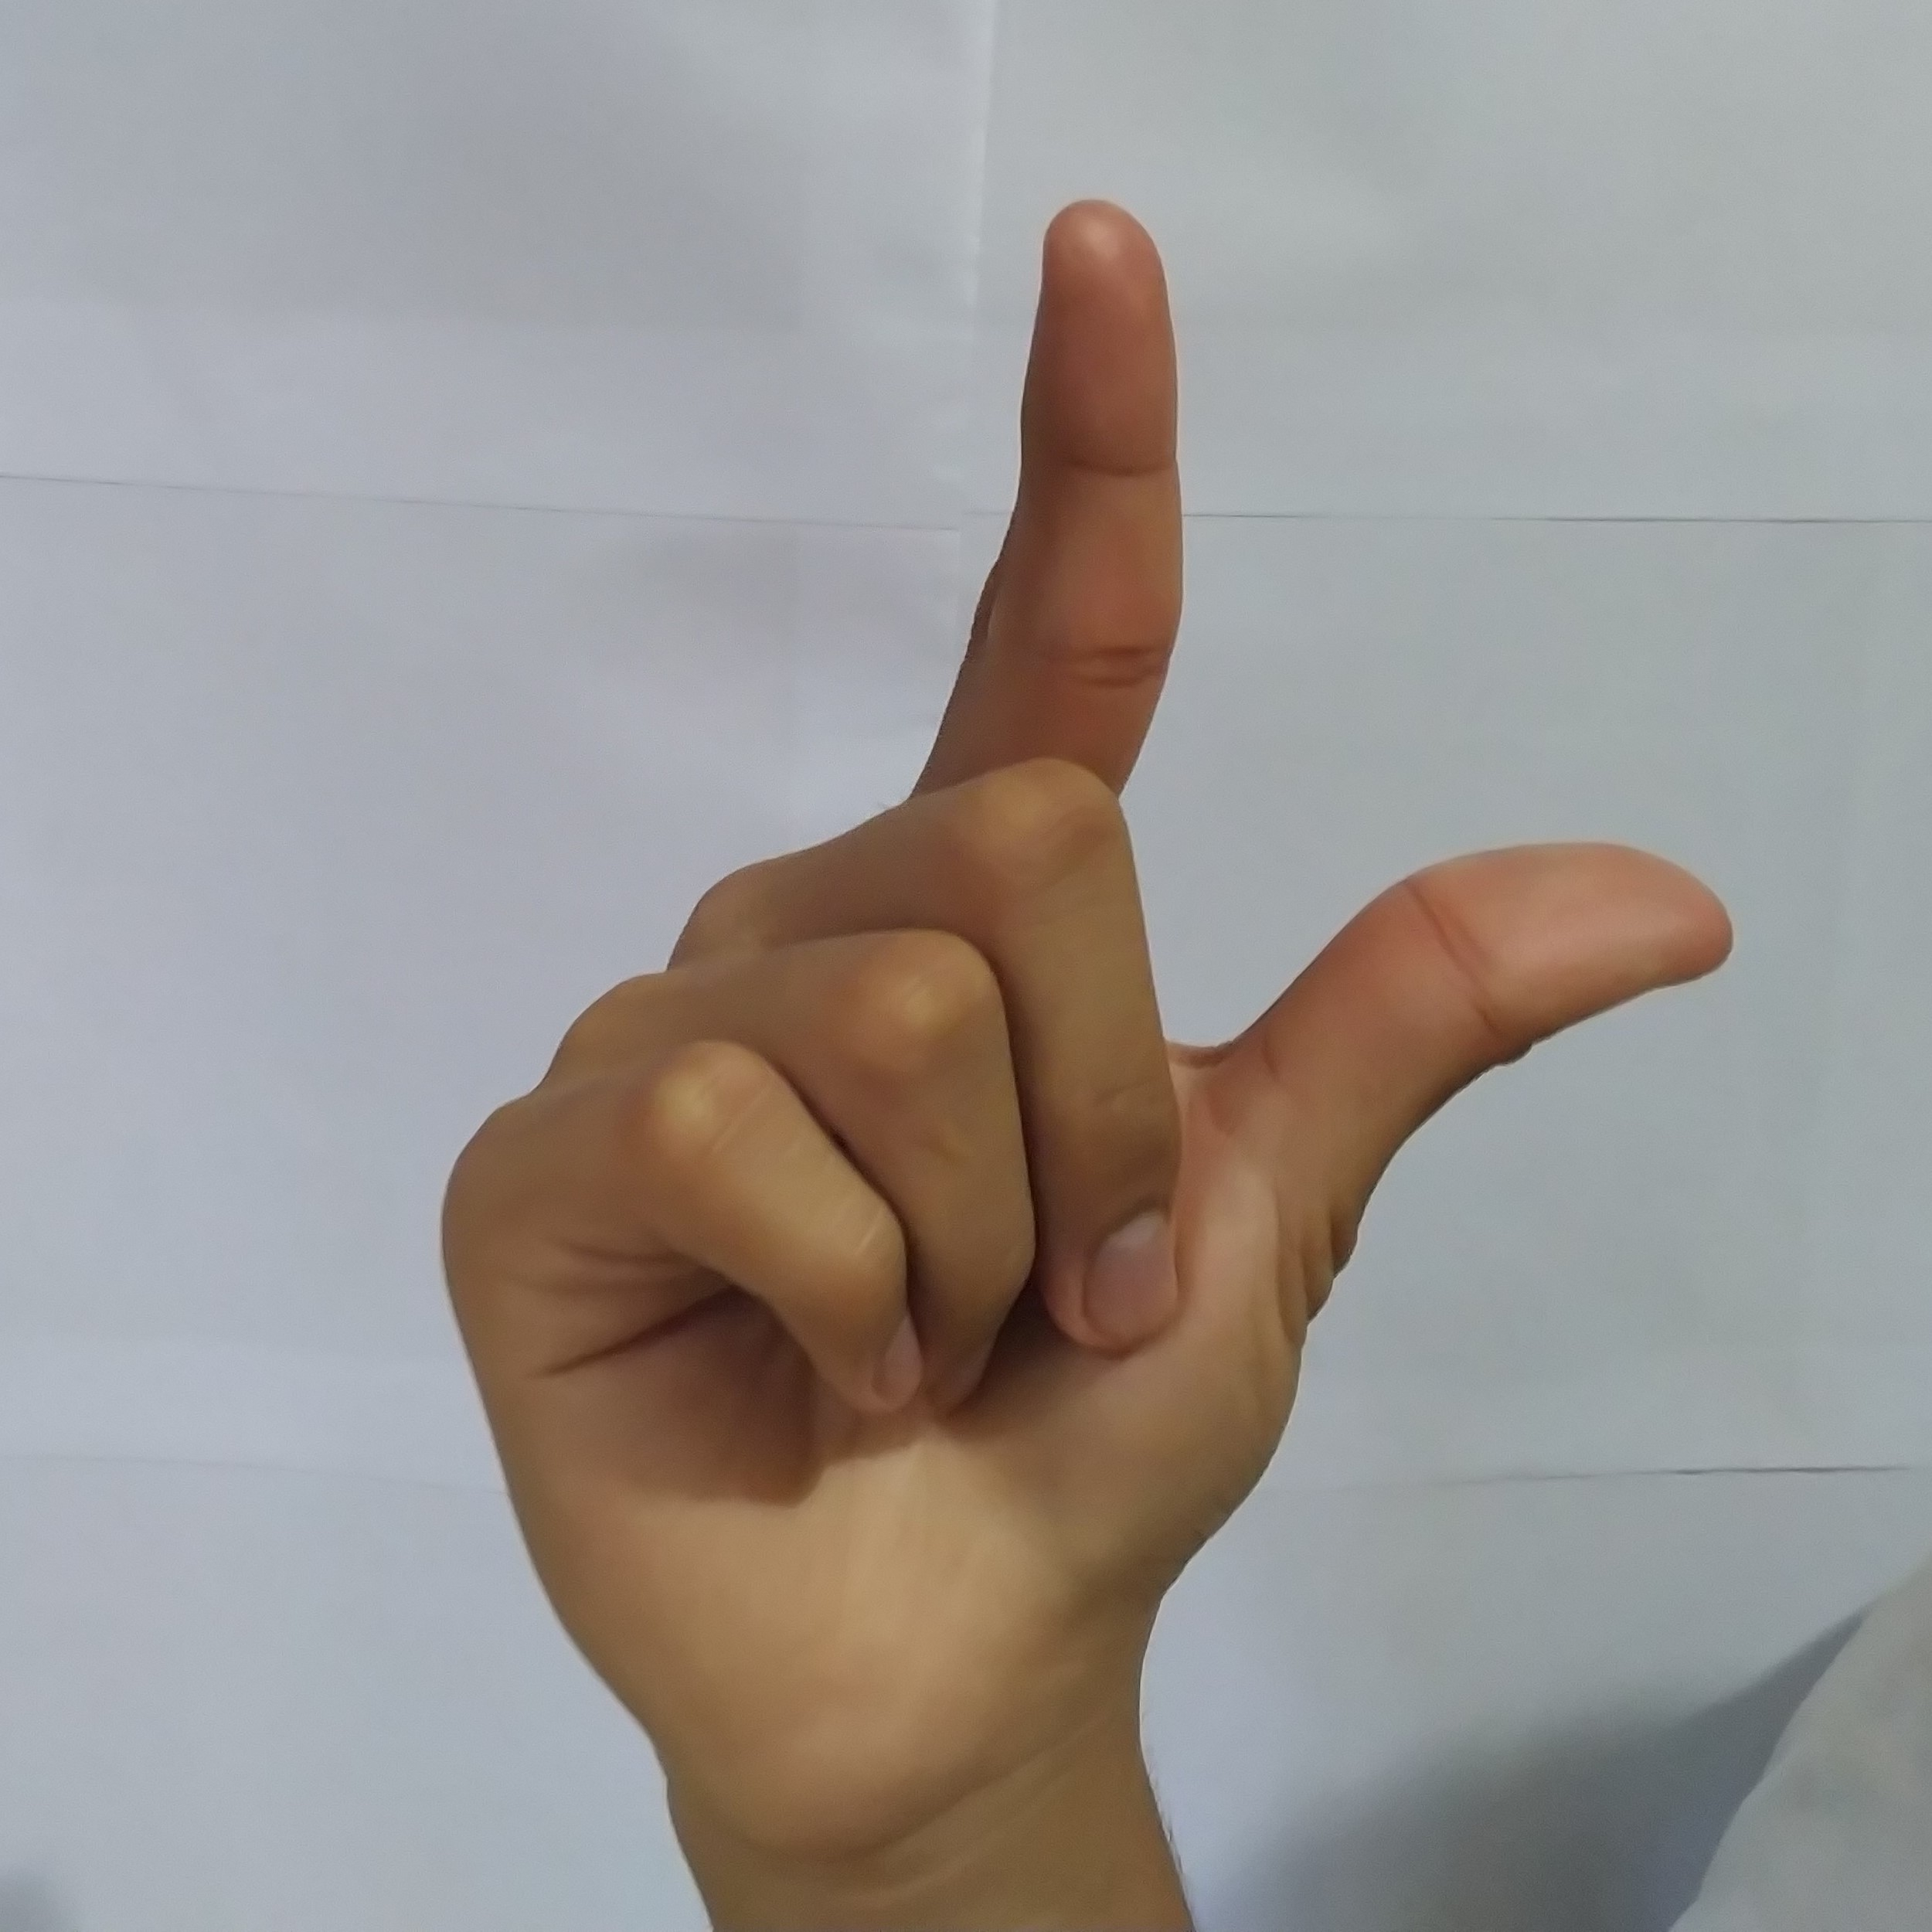L: (409, 177, 1760, 1730)
